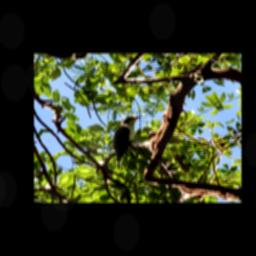Cuckoo: (92, 112, 166, 170)
